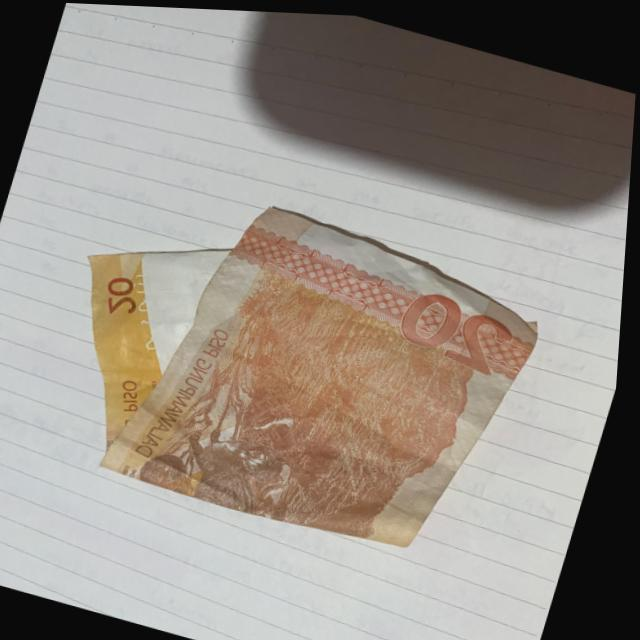see_through_mark: (120, 252, 188, 366)
value: (385, 273, 528, 379)
